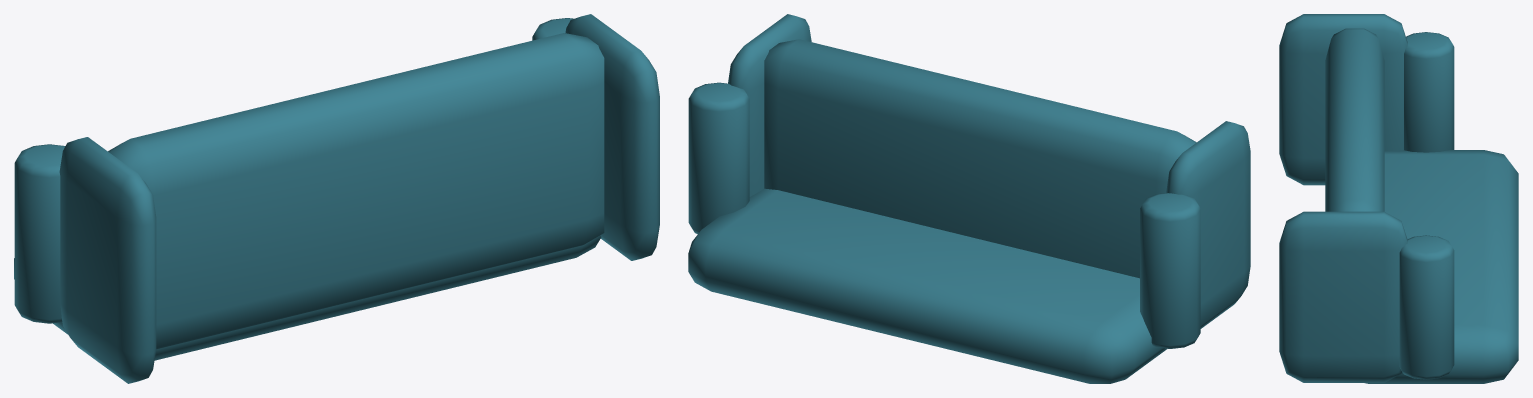
The model's file is Obs_Couch.fbx.
3 views of the same model, side by side, from view 1: azimuth 30°, elevation 25°; view 2: azimuth 150°, elevation 25°; view 3: azimuth 270°, elevation 25° (orthographic). The views are drawn at different scales.
Visible parts, largest first — view 1: Obs_Couch; view 2: Obs_Couch; view 3: Obs_Couch.
Part boxes in pixels (x1=…): Obs_Couch: x1=14, y1=14, x2=659, y2=383; Obs_Couch: x1=688, y1=14, x2=1250, y2=383; Obs_Couch: x1=1279, y1=14, x2=1518, y2=383.
Bounding box in the file's own units: 1.49 × 0.5497 × 0.6656.
1 material, 1 textured.
